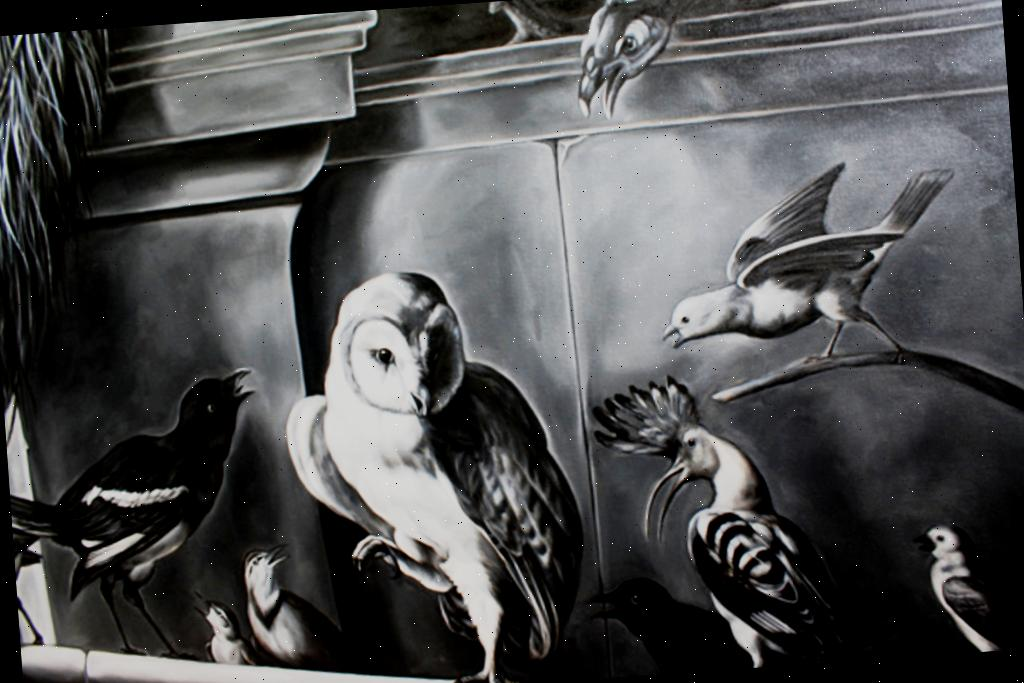Owl: (276, 250, 597, 683)
